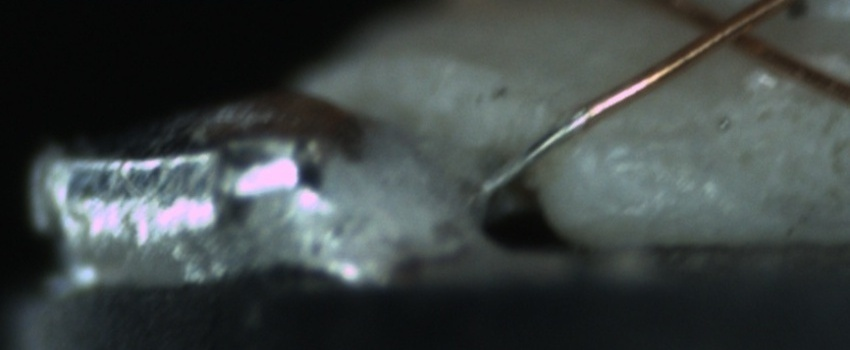CL: (681, 1, 776, 61)
DL: (582, 110, 703, 167)
TS: (482, 104, 596, 197)
TTCW: (481, 79, 633, 192)
